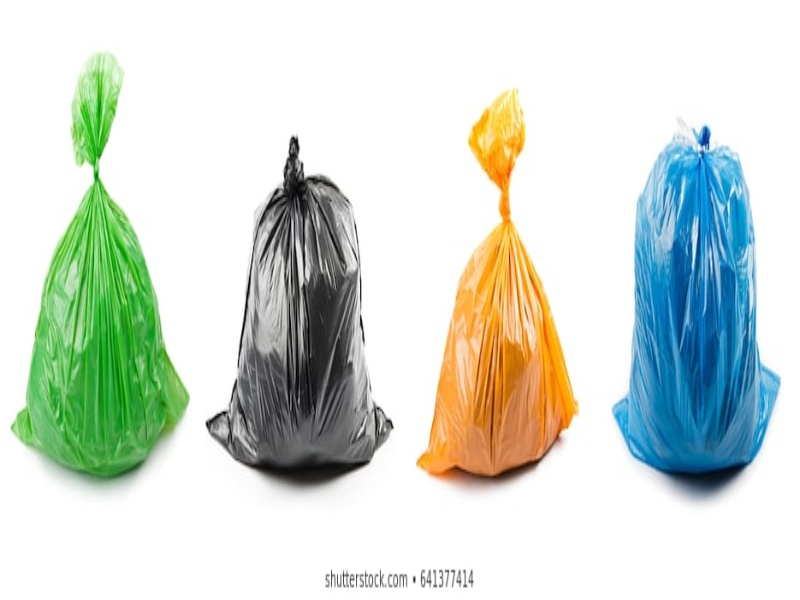plastic-bag: (6, 43, 194, 483), (202, 130, 398, 486), (414, 86, 584, 482), (612, 112, 781, 479)
